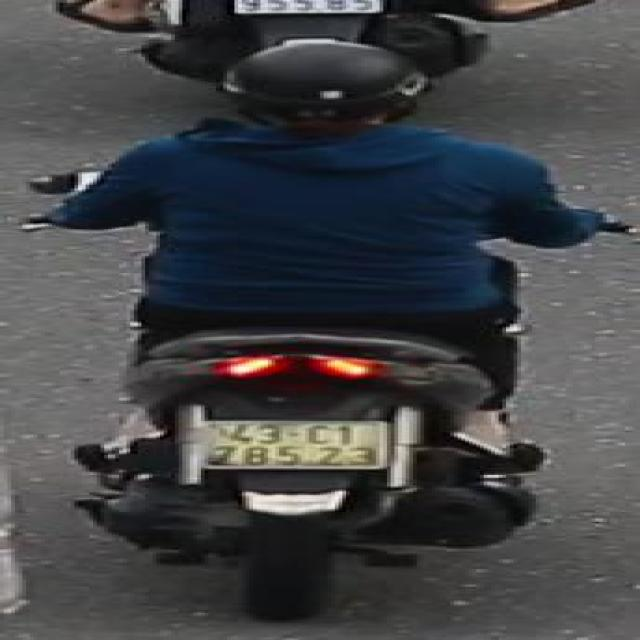LP: (194, 412, 406, 474)
helmet: (208, 38, 451, 148)
